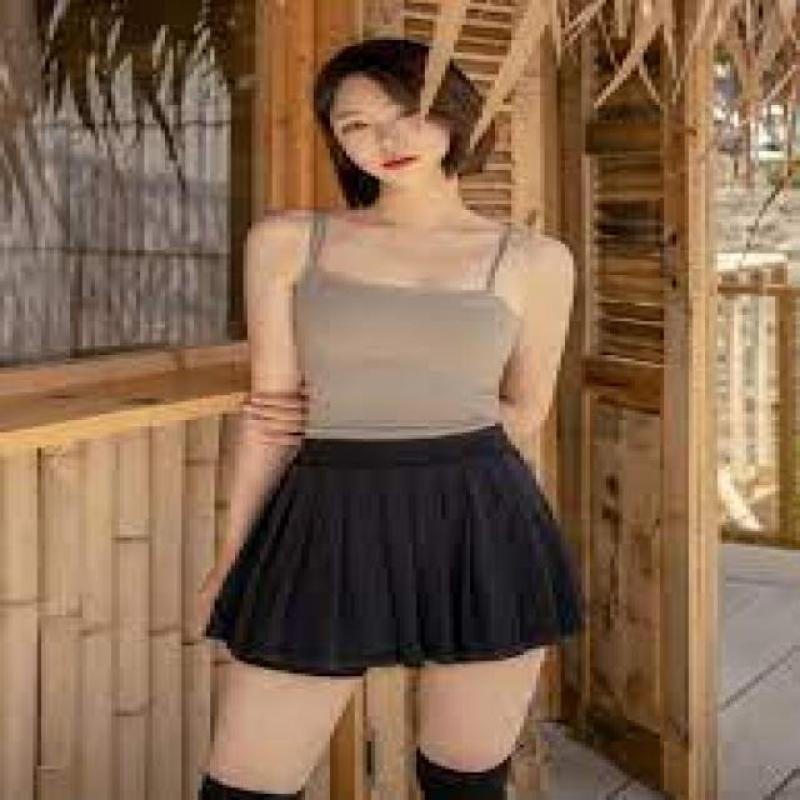skirt: (212, 435, 585, 681)
vest: (294, 267, 518, 443)
